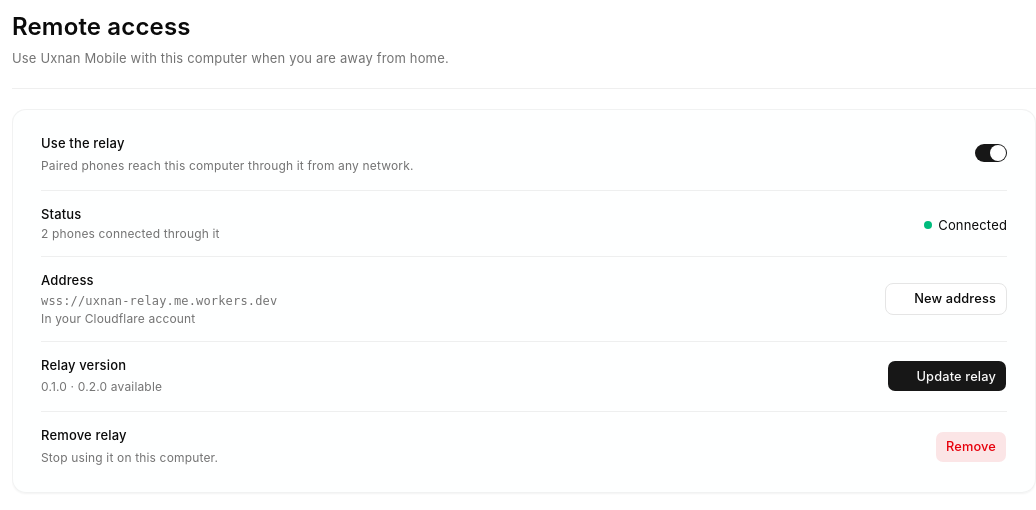
Scenario: RelaySettings › updates straight away with a remembered token, and never offers it for a hand-deployed relay
Click the button "Update relay": x=947, y=376 [888, 360, 1007, 392]
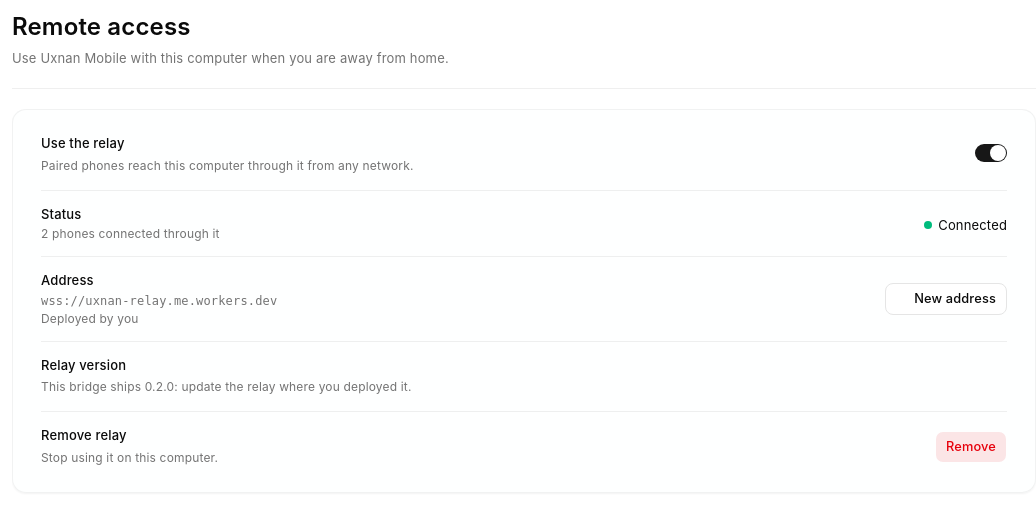
Result: the button "Update relay" is gone
